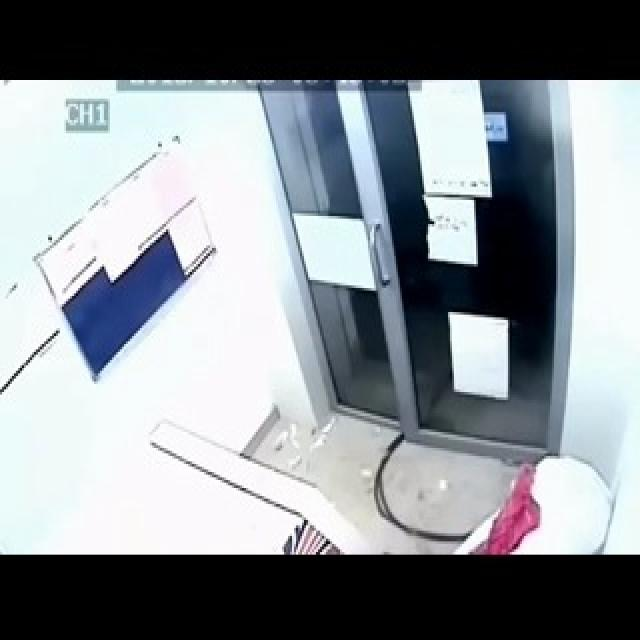thief: (447, 473, 608, 563)
